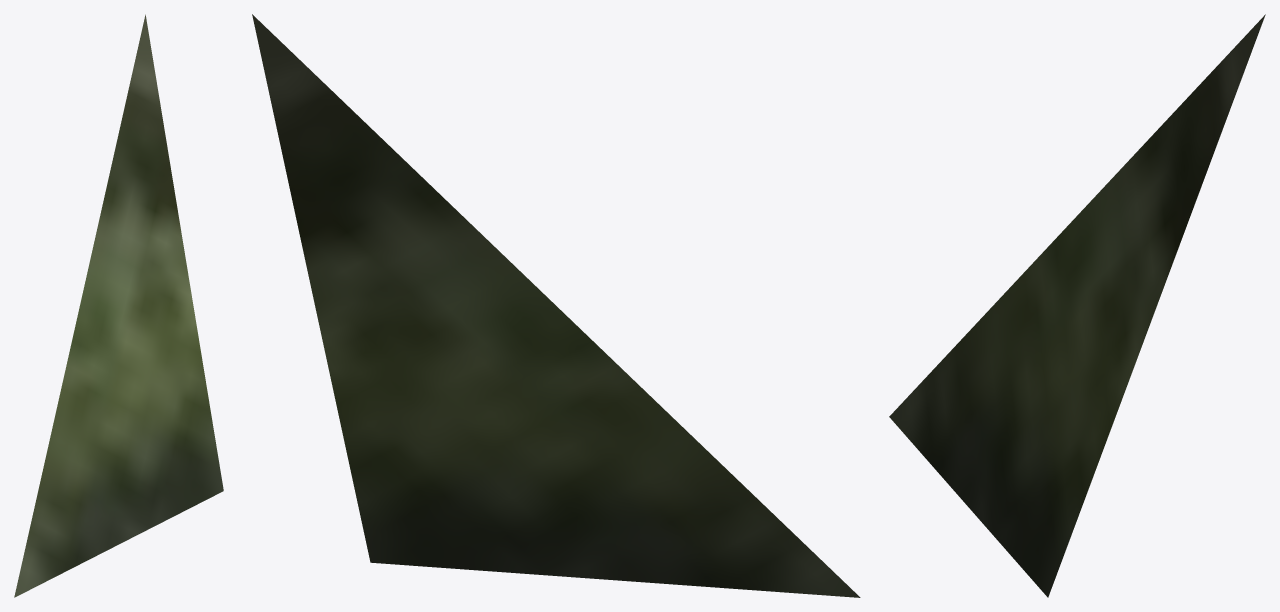
3 views of the same model, side by side, from view 1: azimuth 30°, elevation 25°; view 2: azimuth 150°, elevation 25°; view 3: azimuth 270°, elevation 25° (orthographic). The views are drawn at different scales.
Bounding box in the file's own units: 0.5525 × 0.8305 × 0.4855.
Materials: 1 (1 with a texture image).
